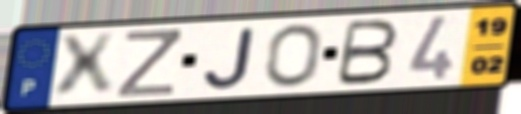4: (406, 13, 456, 84)
B: (332, 18, 402, 87)
J: (200, 26, 257, 92)
O: (264, 22, 324, 89)
X: (53, 30, 119, 102)
Z: (114, 28, 184, 100)
